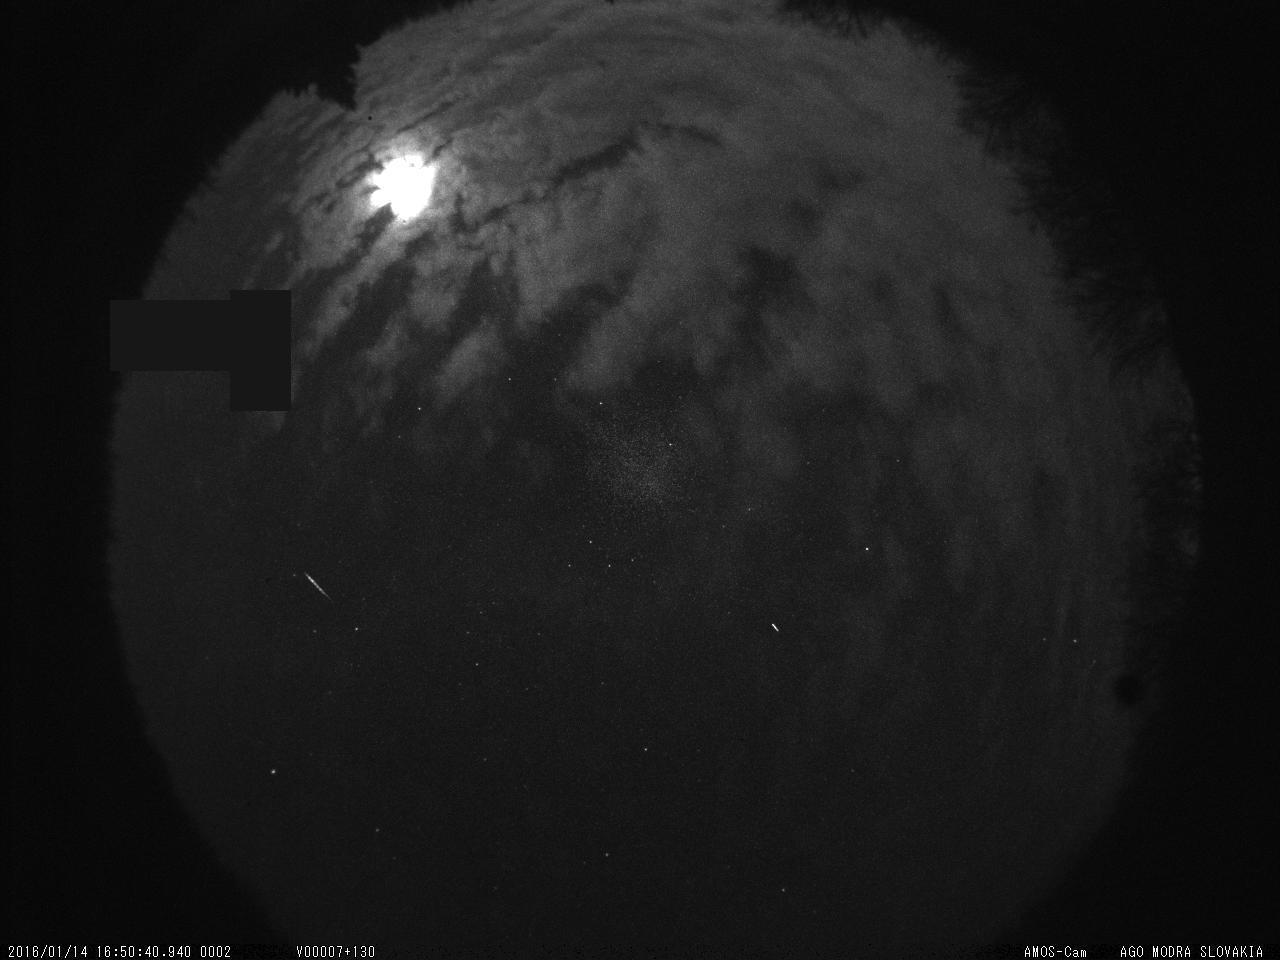meteor: (293, 564, 345, 615)
